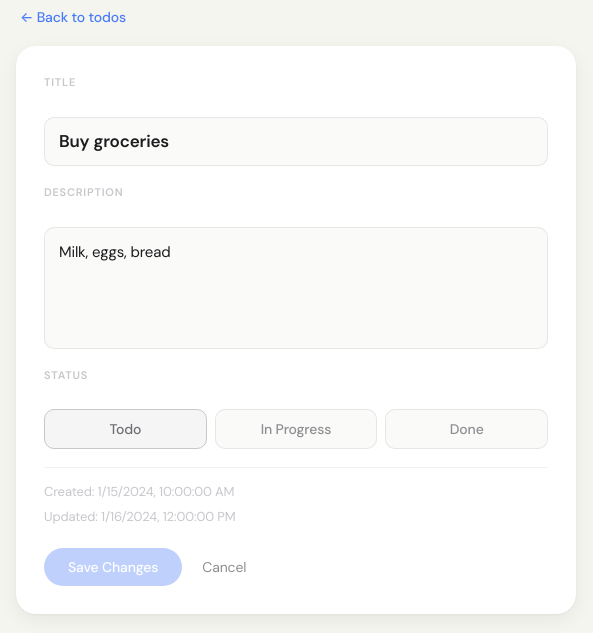
TodoDetailPage › Save Changes button is enabled after changing the status
Expected: the field showing "Buy groceries" is shown, [44, 116, 548, 166]
Click the button "In Progress". click: (296, 429)
box: [215, 409, 377, 449]
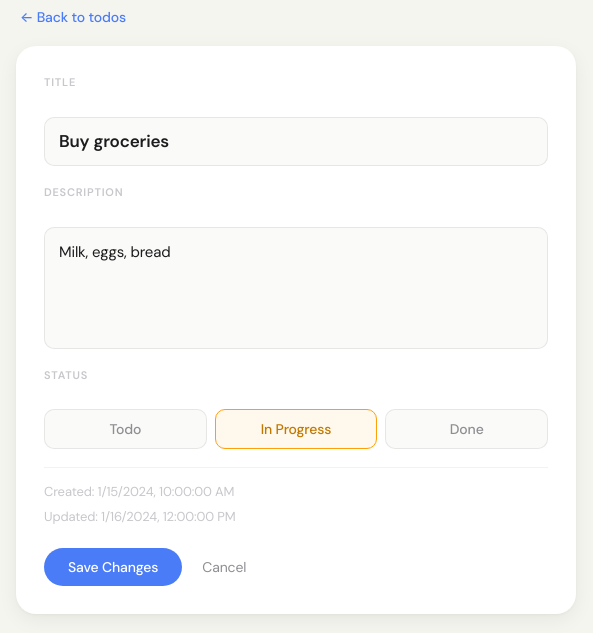
Now the button "Save Changes" is enabled, box [44, 548, 182, 586]
